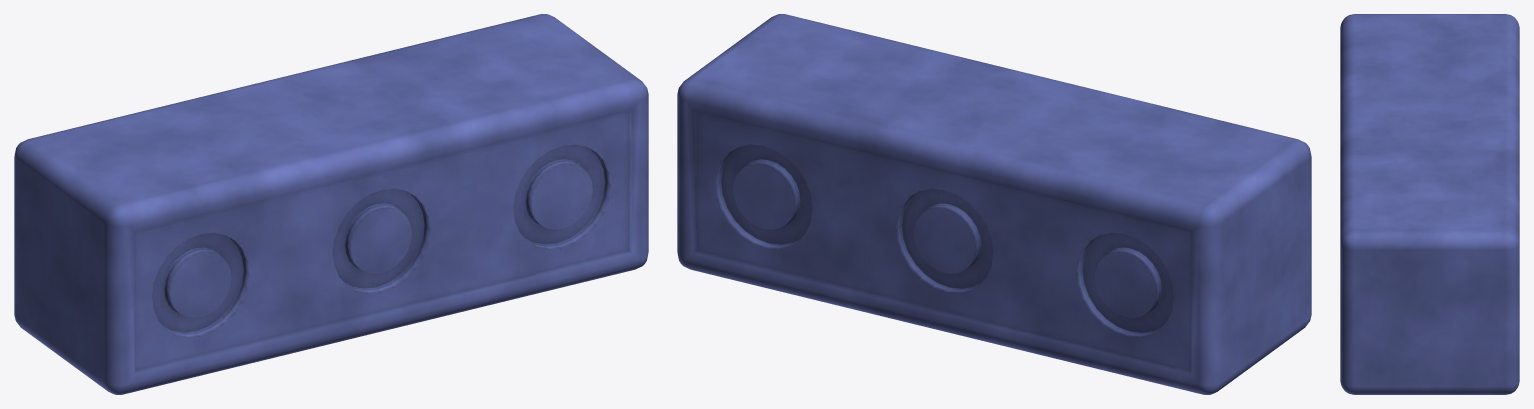
The model's file is tas3.glb.
3 views of the same model, side by side, from view 1: azimuth 30°, elevation 25°; view 2: azimuth 150°, elevation 25°; view 3: azimuth 270°, elevation 25° (orthographic). The views are drawn at different scales.
Parts seen in each view (by area): view 1: blok; view 2: blok; view 3: blok.
Part boxes in pixels (x1=…): blok: x1=14, y1=14, x2=648, y2=394; blok: x1=677, y1=14, x2=1311, y2=394; blok: x1=1340, y1=14, x2=1519, y2=394.
Size of the model in its own units: 3 by 1 by 1.
Materials: 1 (1 with a texture image).
